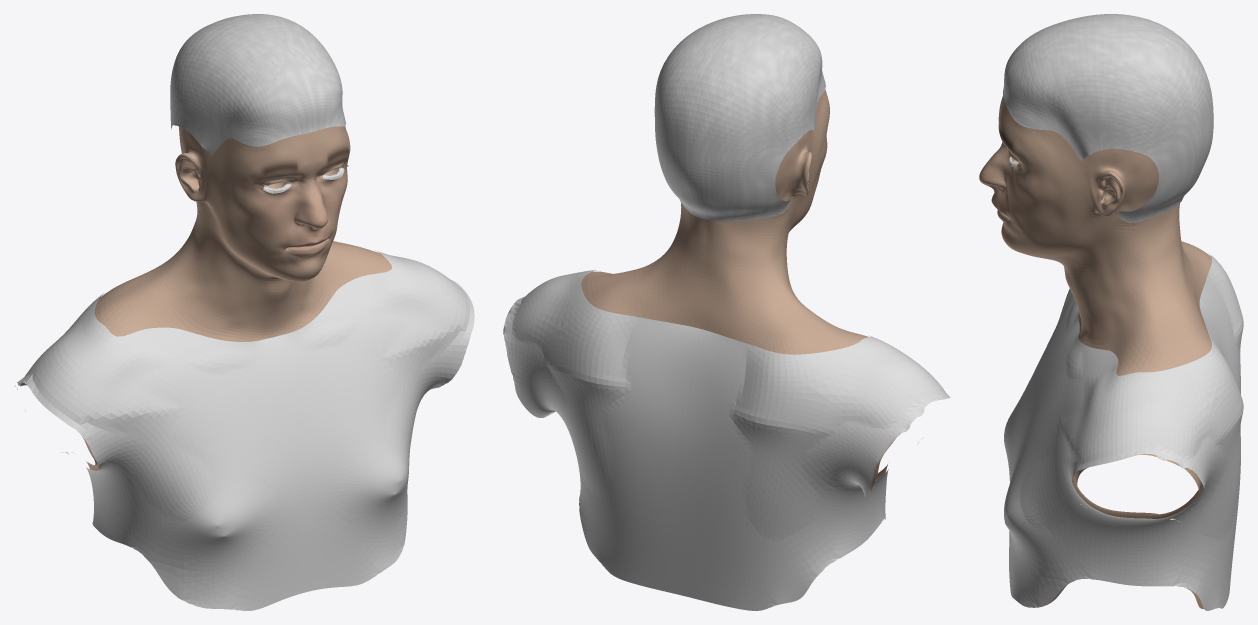
Rendered from hd_m_light.glb.
3 views of the same model, side by side, from view 1: azimuth 30°, elevation 25°; view 2: azimuth 150°, elevation 25°; view 3: azimuth 270°, elevation 25° (orthographic). The views are drawn at different scales.
Visible parts, largest first — view 1: top, skin, hair; view 2: top, hair, skin; view 3: top, skin, hair.
Part boxes in pixels (bbox=[...]): top: bbox=[14, 250, 474, 610]; skin: bbox=[20, 126, 391, 470]; hair: bbox=[170, 14, 346, 201]; top: bbox=[503, 270, 950, 610]; hair: bbox=[654, 14, 825, 221]; skin: bbox=[581, 89, 896, 494]; top: bbox=[1004, 253, 1243, 610]; skin: bbox=[979, 96, 1211, 608]; hair: bbox=[1003, 14, 1213, 222].
Size of the model in its own units: 0.4875 by 0.5862 by 0.2564.
